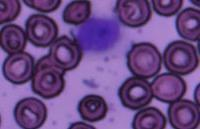L: (74, 11, 123, 58)
